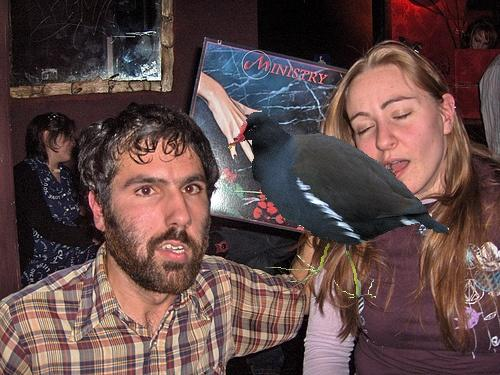tampered: (229, 113, 449, 298)
